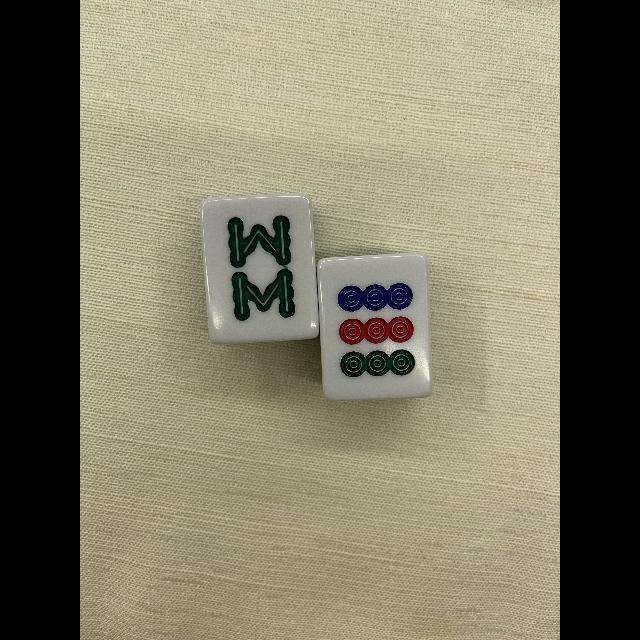b8: (207, 198, 313, 338)
d9: (322, 257, 426, 397)
